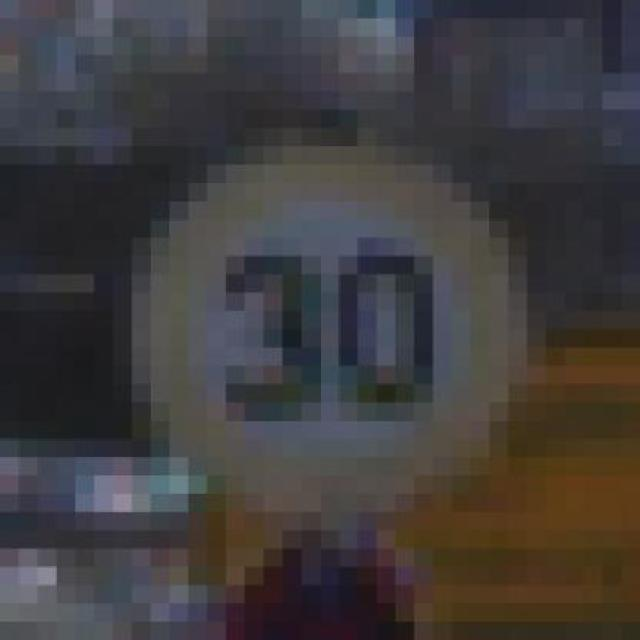Speed Limit 30 KMPh: (113, 110, 584, 548)
